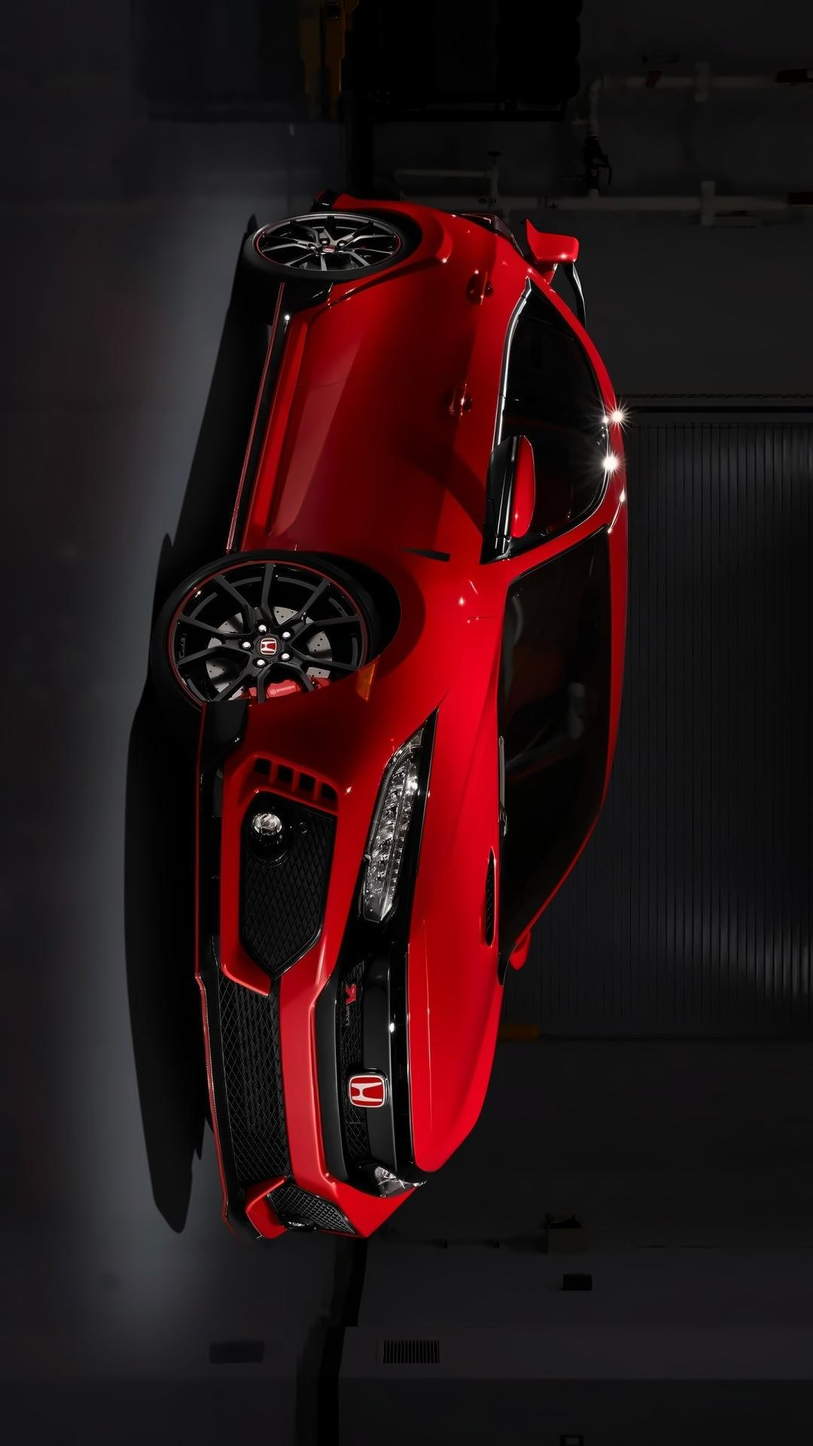Car hood: (402, 603, 510, 1177)
Driver-s door - -F-R-: (243, 380, 601, 556)
Fender - -R-R-: (394, 213, 518, 273)
Front bumper: (186, 683, 387, 1269)
Headlight - -L-: (359, 1150, 437, 1212)
Headlight - -R-: (340, 690, 453, 956)
Passenger-s door - -R-R-: (262, 253, 599, 376)
Rear bumper: (303, 168, 406, 226)
Rear light - -R-: (435, 191, 534, 251)
Side bumper - -R-: (220, 258, 330, 573)
Side mirror - -L-: (497, 908, 548, 978)
Side mirror - -R-: (480, 426, 544, 568)
